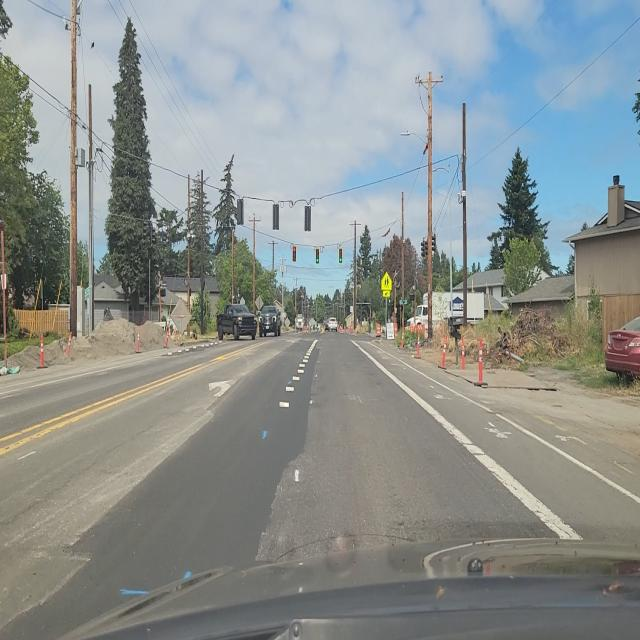car: (604, 314, 640, 385), (215, 304, 259, 342), (258, 306, 282, 337), (326, 316, 338, 332)
crosswalk-sign: (381, 272, 392, 297)
delineator: (477, 338, 484, 385), (440, 338, 447, 370), (39, 332, 45, 368), (460, 337, 466, 372), (66, 332, 73, 357), (165, 323, 170, 348), (416, 331, 420, 358), (136, 330, 140, 352), (401, 326, 405, 348), (394, 322, 398, 339), (174, 326, 178, 342), (179, 332, 183, 346)
